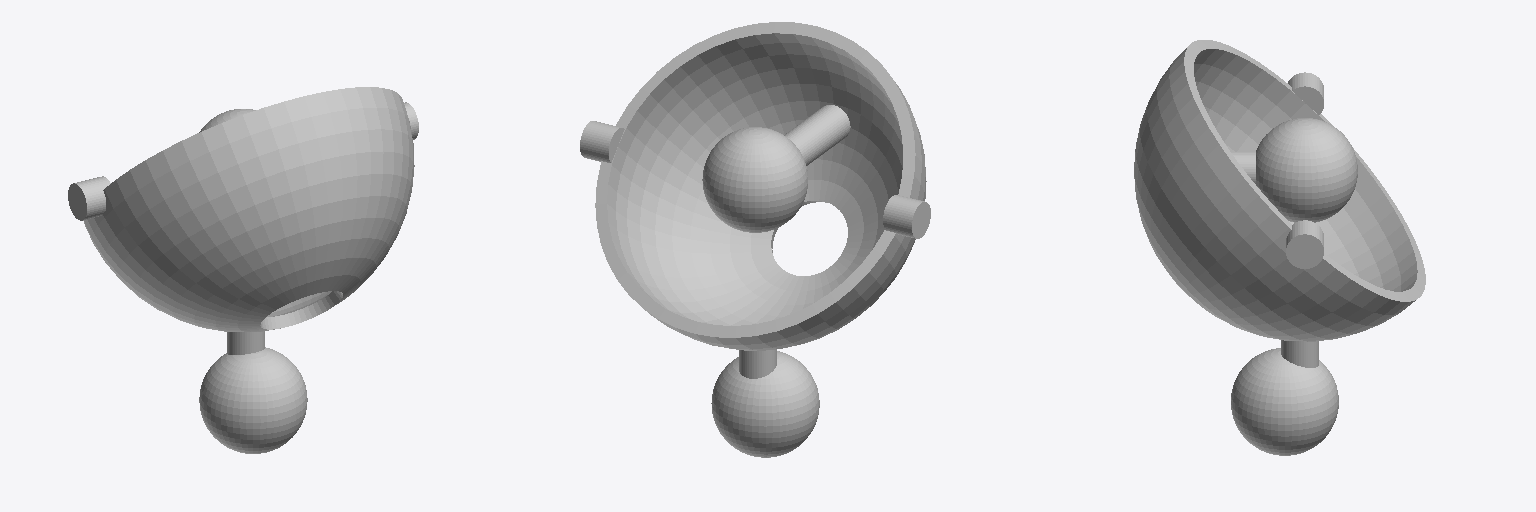
File: AC_EYE_BASE_v001.obj
3 renders of one model, left to right at view 1: azimuth 30°, elevation 25°; view 2: azimuth 150°, elevation 25°; view 3: azimuth 270°, elevation 25°, orthographic.
Parts seen in each view (by area): view 1: Mesh7 Group1 GROUP0 Model, Mesh6 GROUP6 GROUP0 Model, Mesh1 GROUP1 GROUP0 Model, Mesh3 GROUP3 GROUP0 Model; view 2: Mesh7 Group1 GROUP0 Model, Mesh5 GROUP5 GROUP0 Model, Mesh6 GROUP6 GROUP0 Model, Mesh4 GROUP4 GROUP0 Model, Mesh1 GROUP1 GROUP0 Model, Mesh2 GROUP2 GROUP0 Model, Mesh3 GROUP3 GROUP0 Model; view 3: Mesh7 Group1 GROUP0 Model, Mesh6 GROUP6 GROUP0 Model, Mesh5 GROUP5 GROUP0 Model, Mesh2 GROUP2 GROUP0 Model, Mesh1 GROUP1 GROUP0 Model, Mesh3 GROUP3 GROUP0 Model.
Part boxes in pixels (bbox=[...]): Mesh7 Group1 GROUP0 Model: bbox=[83, 87, 414, 331]; Mesh6 GROUP6 GROUP0 Model: bbox=[199, 347, 307, 453]; Mesh1 GROUP1 GROUP0 Model: bbox=[68, 176, 110, 220]; Mesh3 GROUP3 GROUP0 Model: bbox=[227, 331, 264, 354]; Mesh7 Group1 GROUP0 Model: bbox=[595, 22, 926, 350]; Mesh5 GROUP5 GROUP0 Model: bbox=[702, 127, 807, 232]; Mesh6 GROUP6 GROUP0 Model: bbox=[711, 351, 819, 457]; Mesh4 GROUP4 GROUP0 Model: bbox=[784, 105, 850, 165]; Mesh1 GROUP1 GROUP0 Model: bbox=[883, 195, 930, 238]; Mesh2 GROUP2 GROUP0 Model: bbox=[580, 121, 624, 162]; Mesh3 GROUP3 GROUP0 Model: bbox=[739, 349, 776, 378]; Mesh7 Group1 GROUP0 Model: bbox=[1134, 40, 1425, 341]; Mesh6 GROUP6 GROUP0 Model: bbox=[1231, 348, 1338, 455]; Mesh5 GROUP5 GROUP0 Model: bbox=[1256, 118, 1357, 222]; Mesh2 GROUP2 GROUP0 Model: bbox=[1286, 220, 1323, 268]; Mesh1 GROUP1 GROUP0 Model: bbox=[1288, 72, 1323, 114]; Mesh3 GROUP3 GROUP0 Model: bbox=[1281, 340, 1318, 367].
Bounding box in the file's own units: 30 × 33.67 × 22.88.